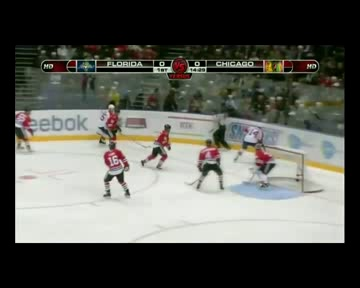normal: (186, 131, 230, 196), (99, 137, 134, 203), (95, 101, 129, 147)
